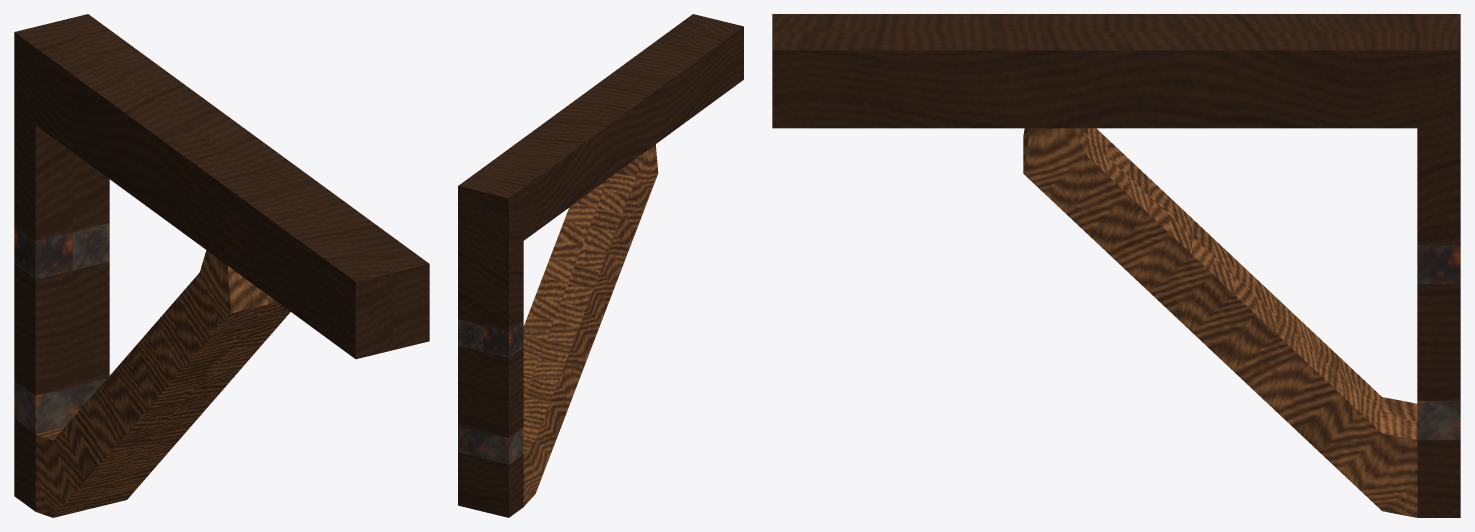
File: platform_bracket.glb
3 views of the same model, side by side, from view 1: azimuth 30°, elevation 25°; view 2: azimuth 150°, elevation 25°; view 3: azimuth 270°, elevation 25° (orthographic). The views are drawn at different scales.
Visible parts, largest first — view 1: crypt_platform_bracket; view 2: crypt_platform_bracket; view 3: crypt_platform_bracket.
Boxes of the visible parts, bbox=[...] form: crypt_platform_bracket: bbox=[14, 14, 429, 517]; crypt_platform_bracket: bbox=[458, 14, 743, 517]; crypt_platform_bracket: bbox=[772, 14, 1460, 517].
Bounding box in the file's own units: 0.125 × 0.75 × 1.
Materials: 1 (1 with a texture image).
